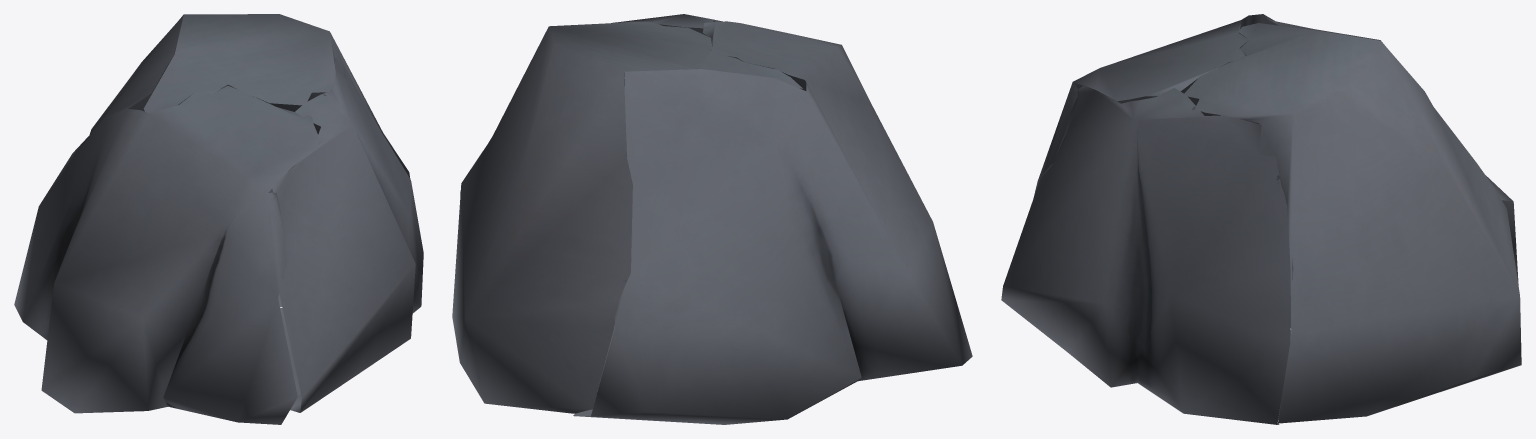
3 renders of one model, left to right at view 1: azimuth 30°, elevation 25°; view 2: azimuth 150°, elevation 25°; view 3: azimuth 270°, elevation 25°, orthographic. The views are drawn at different scales.
Visible parts, largest first — view 1: quad; view 2: quad; view 3: quad.
Part boxes in pixels (left/top/right/bottom): quad: left=14, top=14, right=423, bottom=424; quad: left=452, top=14, right=972, bottom=424; quad: left=1001, top=14, right=1521, bottom=424.
Bounding box in the file's own units: 180 × 115 × 176.
Materials: 1 (1 with a texture image).
